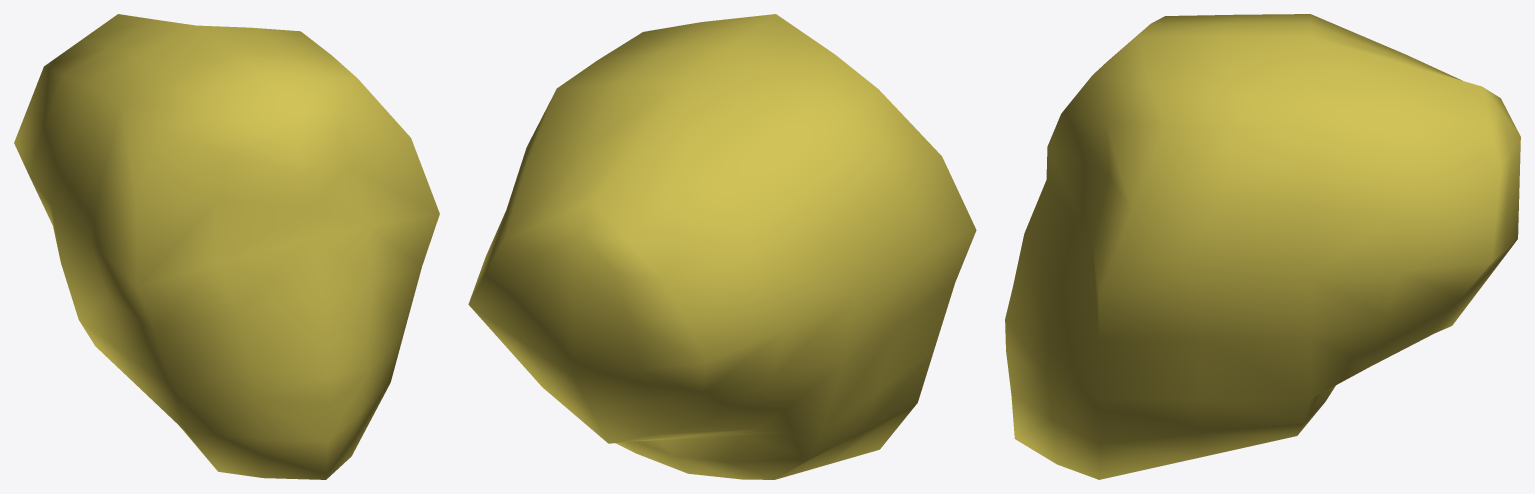
The model's file is Golden Skull.glb.
3 views of the same model, side by side, from view 1: azimuth 30°, elevation 25°; view 2: azimuth 150°, elevation 25°; view 3: azimuth 270°, elevation 25° (orthographic). The views are drawn at different scales.
Parts seen in each view (by area): view 1: Skull-rigid; view 2: Skull-rigid; view 3: Skull-rigid.
Boxes of the visible parts, x1=… form: Skull-rigid: x1=14, y1=14, x2=439, y2=479; Skull-rigid: x1=468, y1=14, x2=976, y2=479; Skull-rigid: x1=1005, y1=14, x2=1520, y2=479.
Bounding box in the file's own units: 0.9289 × 1.06 × 1.22.
